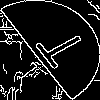T: (25, 25, 90, 75)
